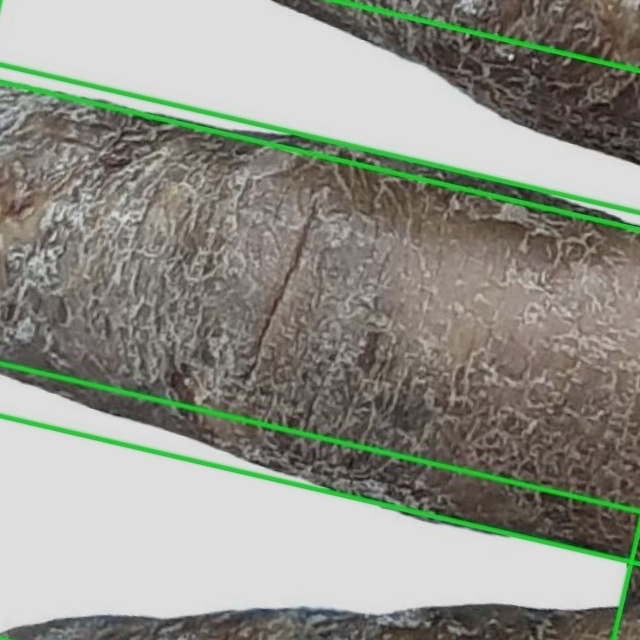Eczema: (0, 66, 639, 565), (0, 363, 639, 639), (0, 0, 639, 229)
